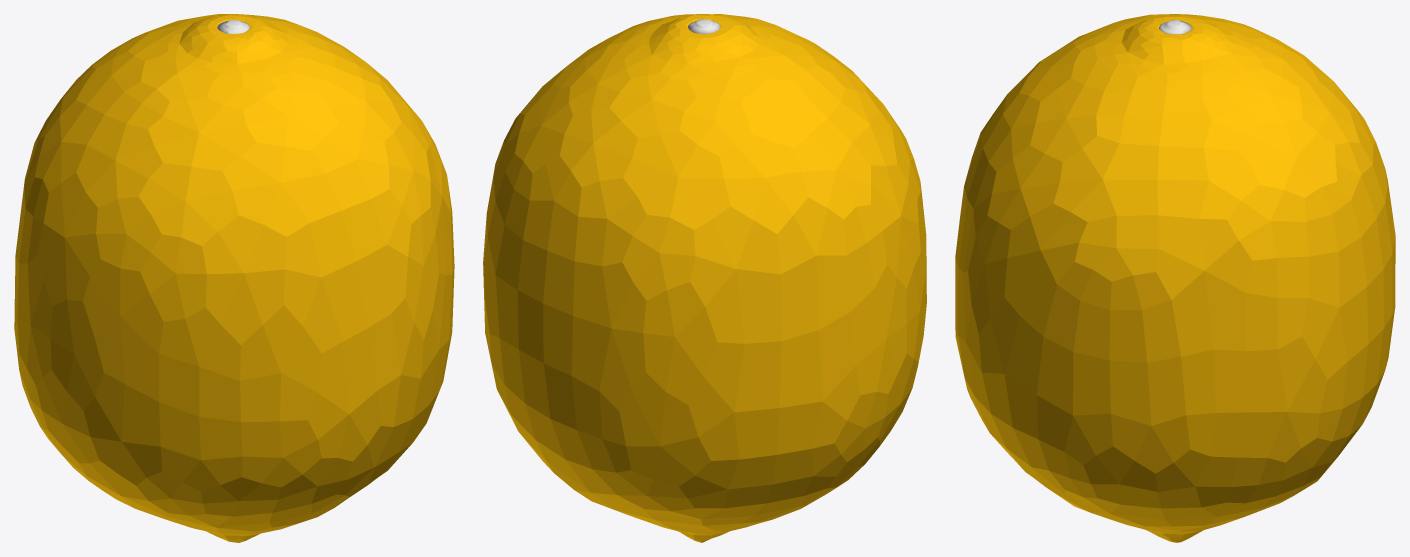
Rendered from LEMON.fbx.
3 renders of one model, left to right at view 1: azimuth 30°, elevation 25°; view 2: azimuth 150°, elevation 25°; view 3: azimuth 270°, elevation 25°, orthographic.
Parts seen in each view (by area): view 1: LEMON; view 2: LEMON; view 3: LEMON.
Part boxes in pixels (x1,y1,x2,y2): LEMON: (14,14,454,542); LEMON: (483,14,926,542); LEMON: (955,14,1395,542).
Bounding box in the file's own units: 194 × 251 × 193.
